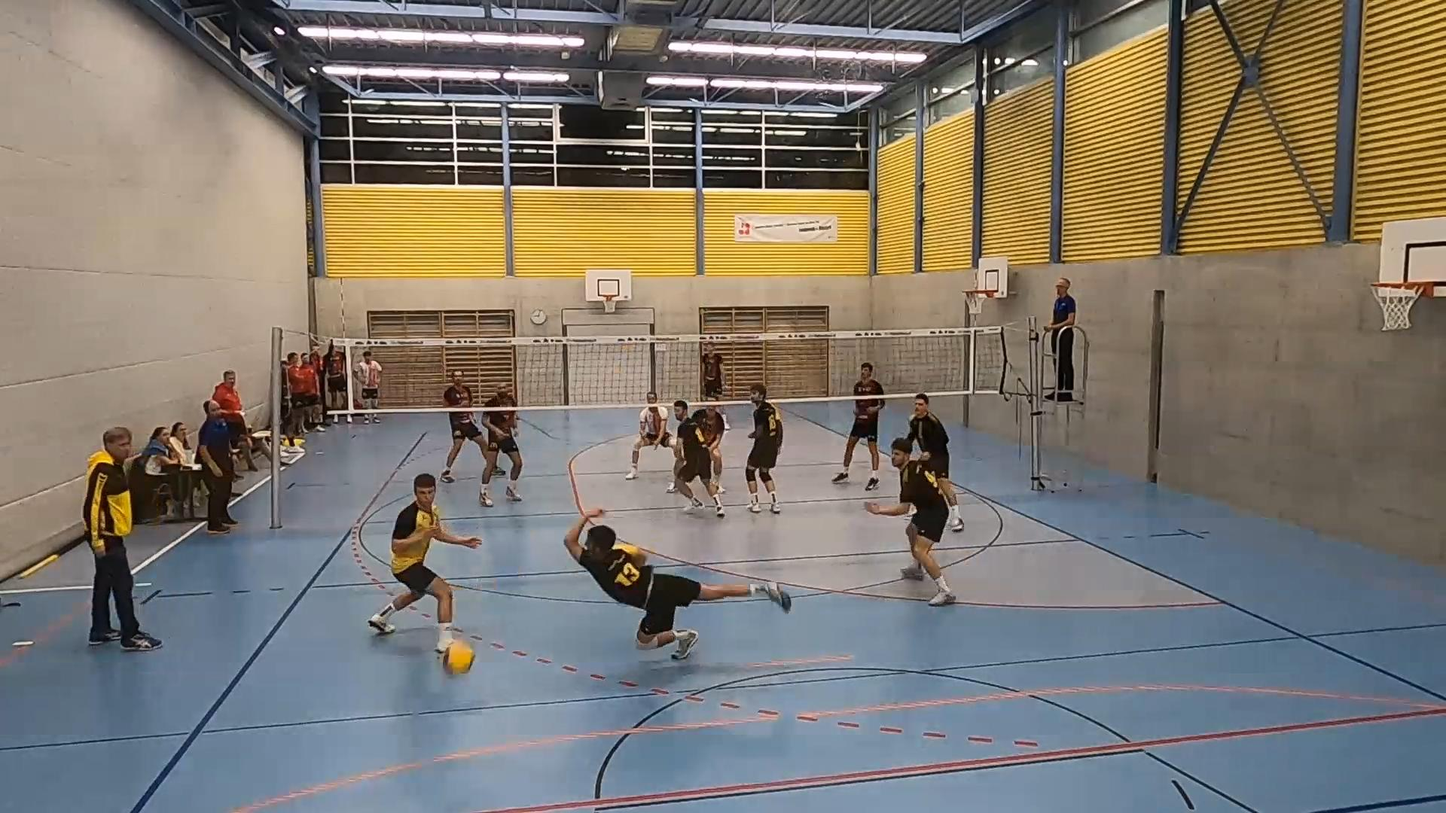Dig: (559, 506, 796, 668)
Player: (368, 473, 480, 650), (865, 438, 956, 606), (907, 393, 963, 531), (832, 362, 883, 490), (480, 384, 523, 506), (440, 370, 486, 483), (676, 410, 724, 516), (745, 384, 782, 513), (625, 391, 671, 480), (704, 397, 728, 493), (700, 346, 723, 399)
ball: (442, 642, 472, 672)
